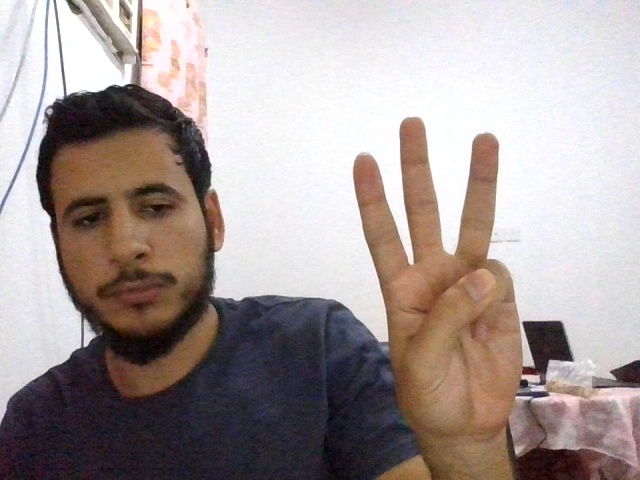Three: (352, 116, 525, 434)
